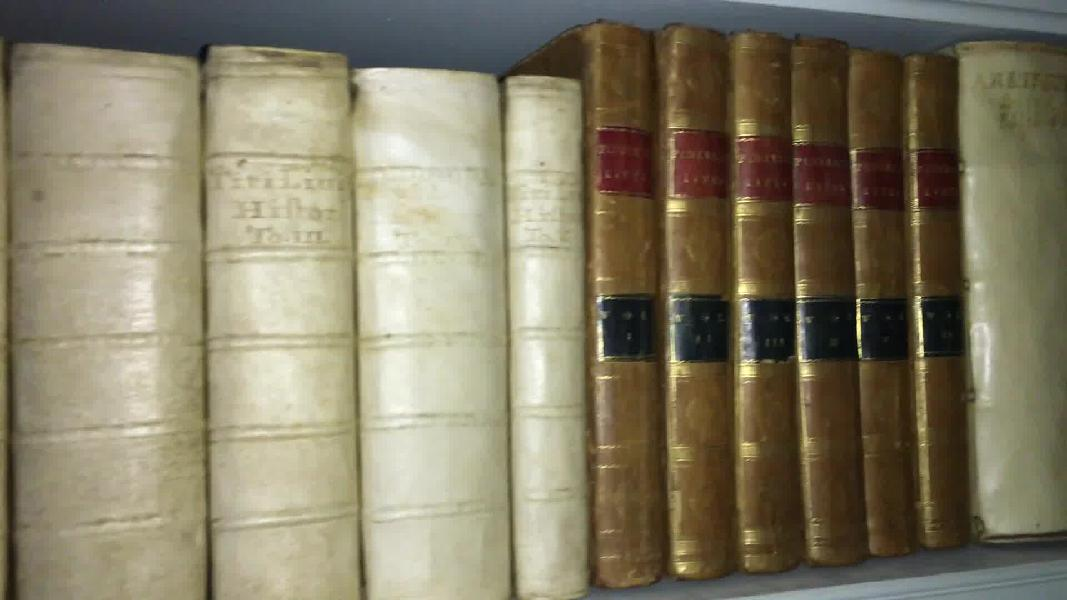Kk4-14: (948, 27, 1067, 558)
Kk4-3_7: (2, 24, 601, 600)
Kk4-8_13: (571, 11, 983, 586)
